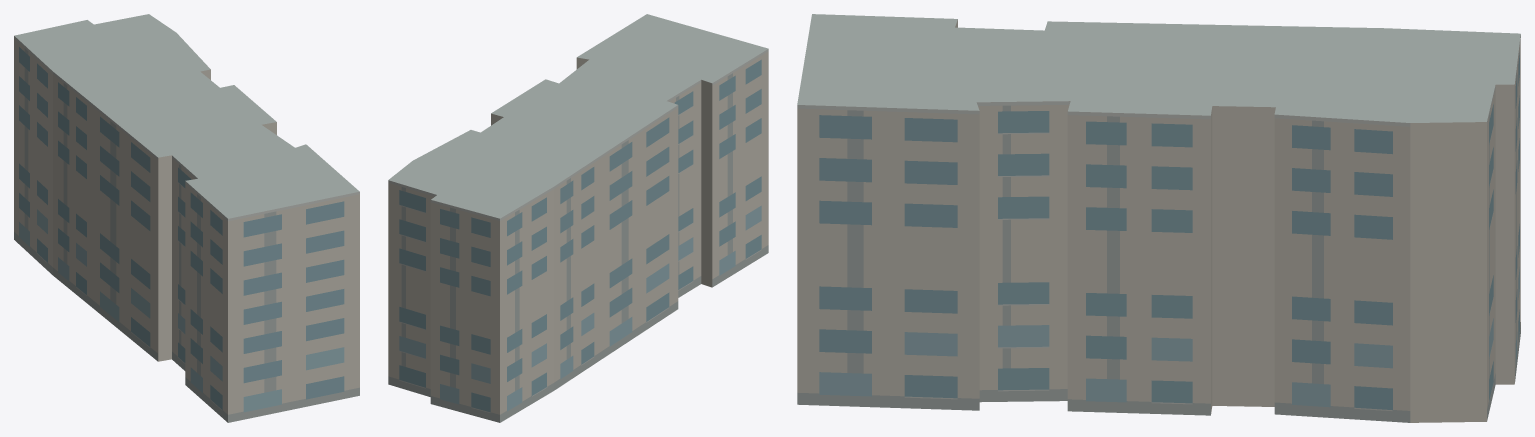
Rendered from survey-upis-32846365.glb.
3 views of the same model, side by side, from view 1: azimuth 30°, elevation 25°; view 2: azimuth 150°, elevation 25°; view 3: azimuth 270°, elevation 25° (orthographic). The views are drawn at different scales.
Visible parts, largest first — view 1: survey-upis-32846365.tmp; view 2: survey-upis-32846365.tmp; view 3: survey-upis-32846365.tmp.
Boxes of the visible parts, x1,y1,x2,y2 form: survey-upis-32846365.tmp: (14,14,359,422); survey-upis-32846365.tmp: (388,14,768,422); survey-upis-32846365.tmp: (797,14,1520,422).
Bounding box in the file's own units: 15.54 × 19.9 × 43.54.
